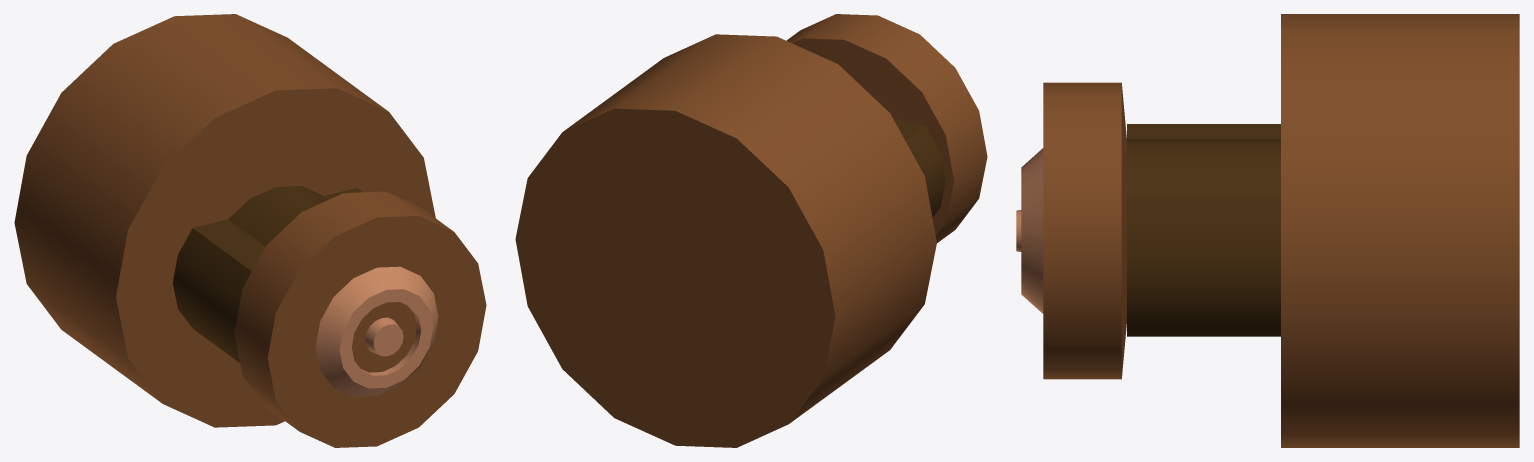
Rendered from Heup Links Achter.fbx.
The picture shows the model from 3 angles, left to right: view 1: azimuth 30°, elevation 25°; view 2: azimuth 150°, elevation 25°; view 3: azimuth 270°, elevation 25°; orthographic projection. The views are drawn at different scales.
Parts seen in each view (by area): view 1: Heup.001; view 2: Heup.001; view 3: Heup.001.
Boxes of the visible parts, x1,y1,x2,y2 form: Heup.001: [14, 14, 486, 447]; Heup.001: [515, 14, 987, 447]; Heup.001: [1016, 14, 1519, 447].
Size of the model in its own units: 509 by 509 by 590.
